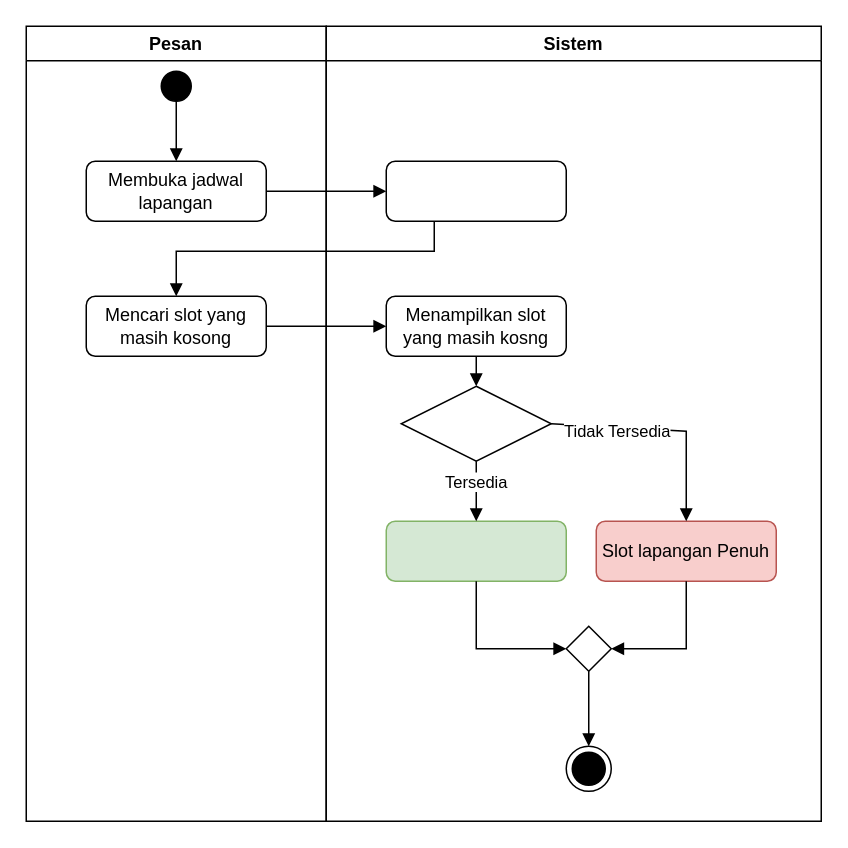
This 848x848 diagram has some shape labels left out. Here are the shapes that lost their labels. From the top down, the centre of each, then its label:
At point 475,190: "Menampilkan slot jadwal lapangan".
At point 475,423: "Slot".
At point 475,550: "Slot lapangan Kosong".
